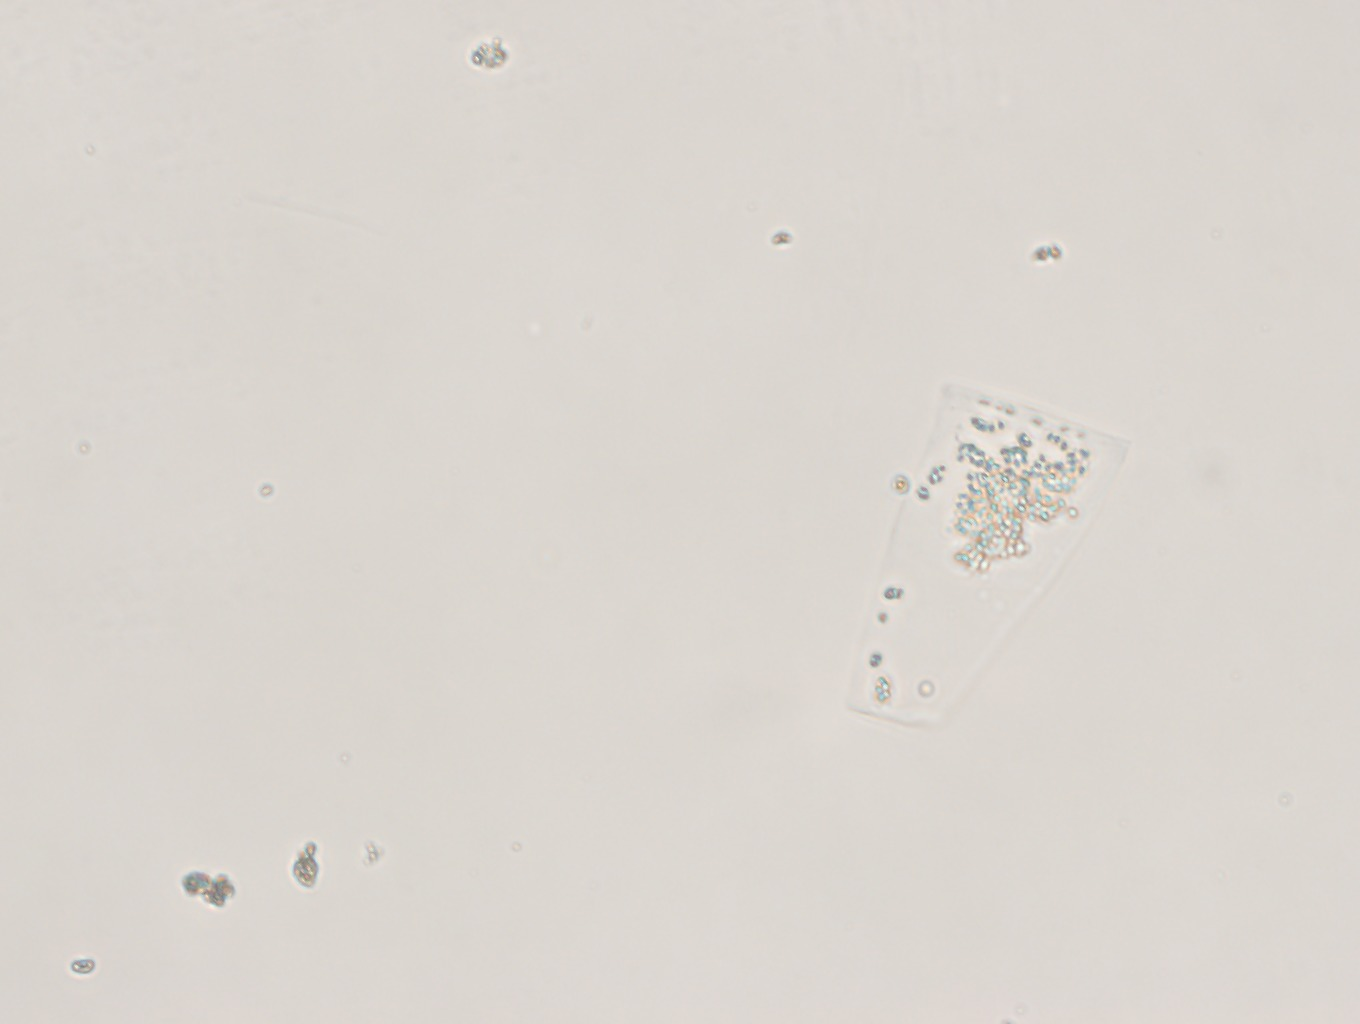helicotheca: (832, 373, 1139, 767)
